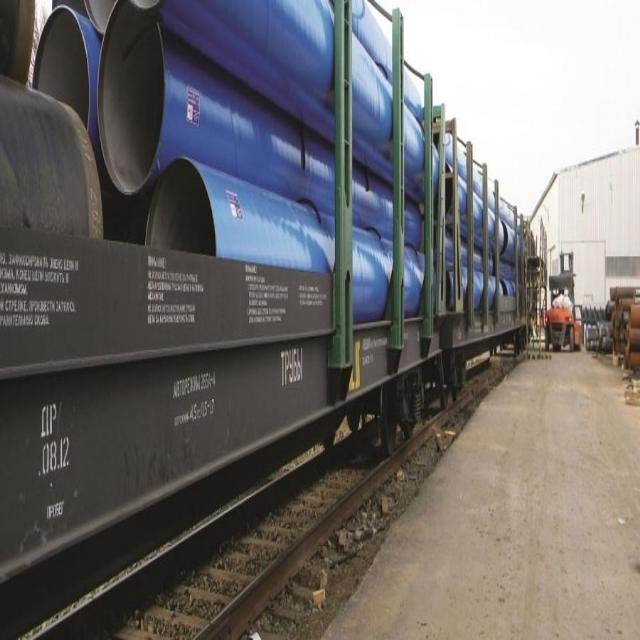cargo: (0, 0, 439, 323), (436, 103, 536, 321)
flatcar: (0, 231, 449, 604), (442, 303, 534, 409)
